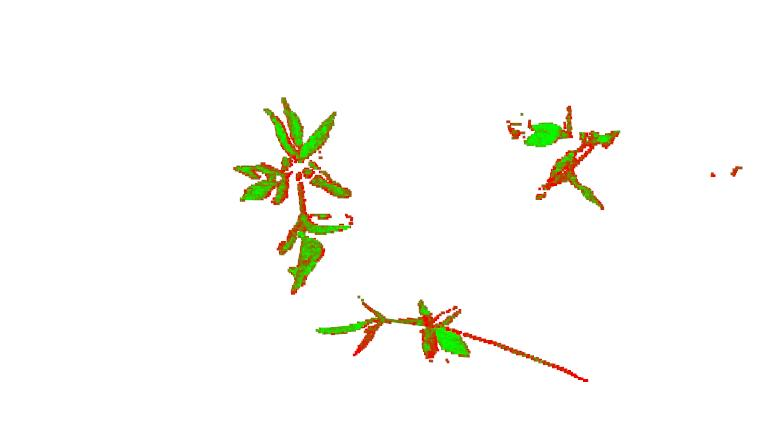mungbean: (230, 92, 354, 299), (495, 101, 619, 219), (317, 299, 471, 361)
